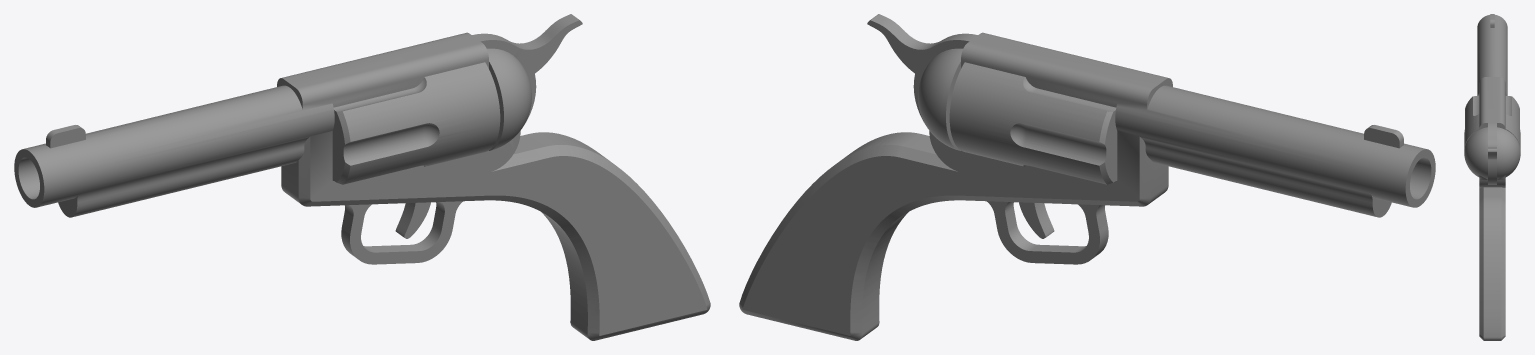
The model's file is revolver.glb.
3 views of the same model, side by side, from view 1: azimuth 30°, elevation 25°; view 2: azimuth 150°, elevation 25°; view 3: azimuth 270°, elevation 25° (orthographic). The views are drawn at different scales.
Visible parts, largest first — view 1: Revolver.1; view 2: Revolver.1; view 3: Revolver.1.
Part boxes in pixels (x1,y1,x2,y2): Revolver.1: (14, 14, 710, 340); Revolver.1: (739, 14, 1435, 340); Revolver.1: (1464, 14, 1520, 340).
Size of the model in its own units: 0.6776 by 0.3199 by 0.0975.
1 material, 1 textured.
